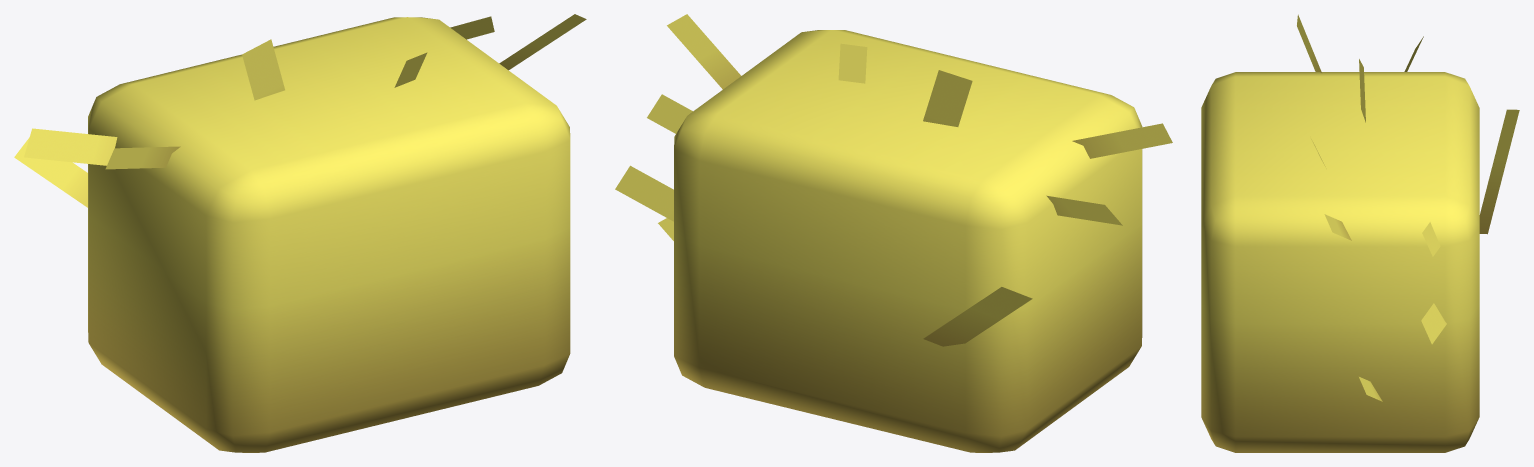
The model's file is Wheat+2.fbx.
3 renders of one model, left to right at view 1: azimuth 30°, elevation 25°; view 2: azimuth 150°, elevation 25°; view 3: azimuth 270°, elevation 25°, orthographic. The views are drawn at different scales.
Parts seen in each view (by area): view 1: Wheat 2; view 2: Wheat 2; view 3: Wheat 2.
Part boxes in pixels (x1=…): Wheat 2: x1=14, y1=14, x2=586, y2=452; Wheat 2: x1=615, y1=14, x2=1172, y2=452; Wheat 2: x1=1201, y1=14, x2=1519, y2=452.
Bounding box in the file's own units: 69.28 × 43.4 × 41.49.
